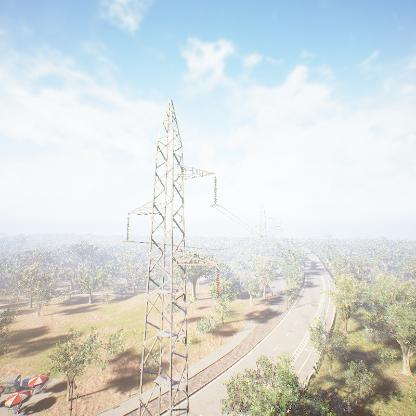tower: (116, 94, 216, 412)
